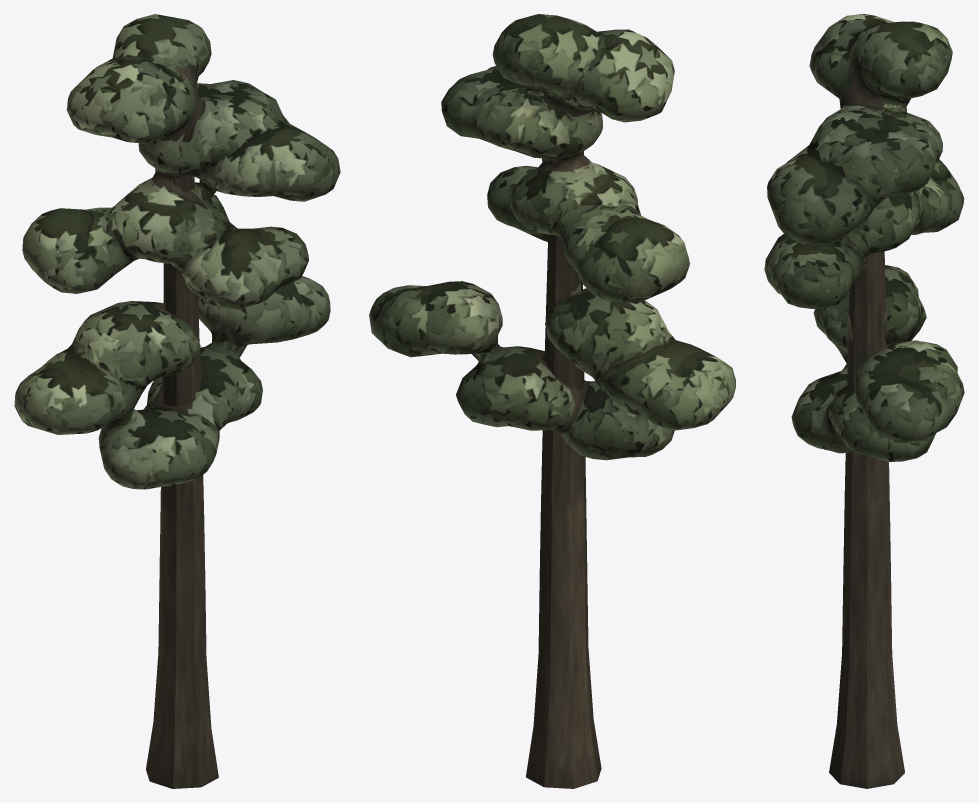
The model's file is tree_tall_a.glb.
3 views of the same model, side by side, from view 1: azimuth 30°, elevation 25°; view 2: azimuth 150°, elevation 25°; view 3: azimuth 270°, elevation 25° (orthographic). The views are drawn at different scales.
Visible parts, largest first — view 1: tree_tall_a_lod0; view 2: tree_tall_a_lod0; view 3: tree_tall_a_lod0.
Boxes of the visible parts, x1=… form: tree_tall_a_lod0: x1=14, y1=14, x2=340, y2=788; tree_tall_a_lod0: x1=369, y1=14, x2=735, y2=788; tree_tall_a_lod0: x1=764, y1=14, x2=964, y2=788.
Size of the model in its own units: 2.27 by 5 by 1.22.
1 material, 1 textured.
